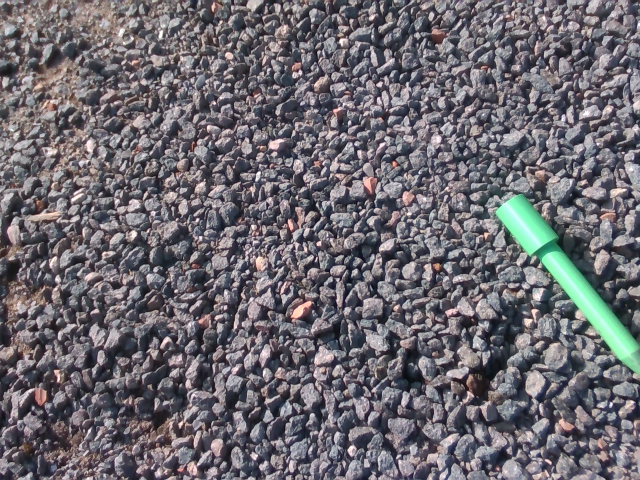Probe: (492, 191, 640, 383)
